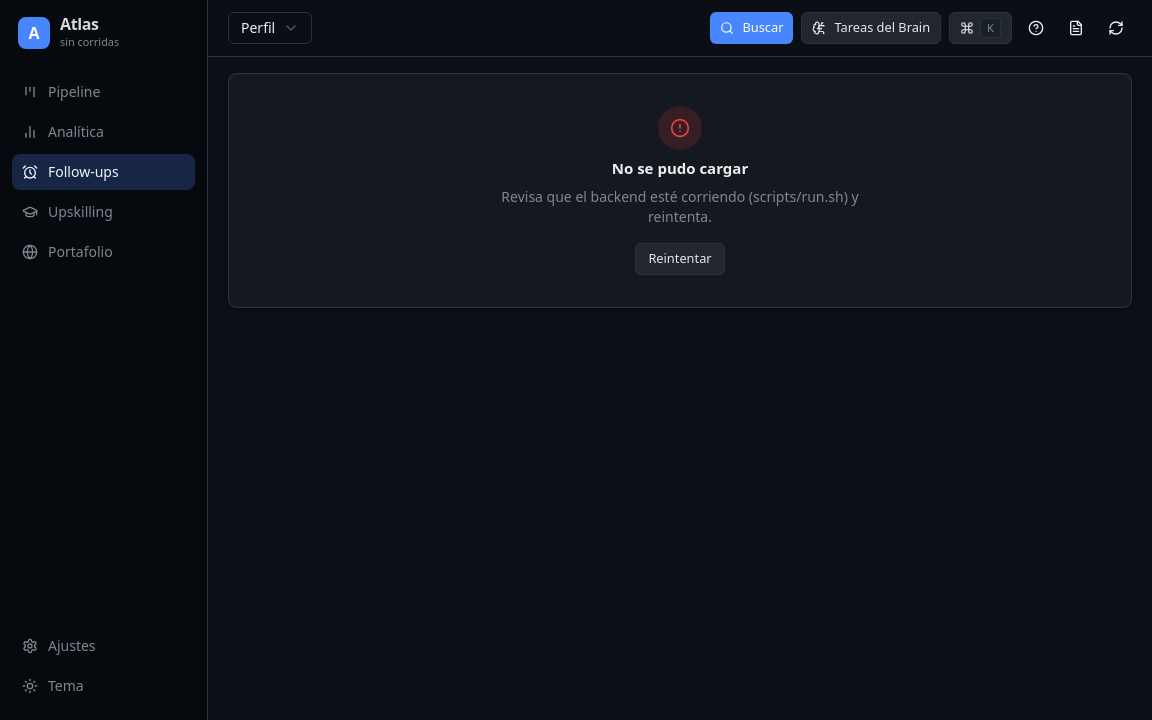
FollowupsPage › si /api/followups falla muestra ErrorState y Reintentar recupera al éxito
Expected: the text "No se pudo cargar" is shown, [612, 158, 748, 179]
Click the button "Reintentar" at (680, 259), box [635, 243, 725, 275]
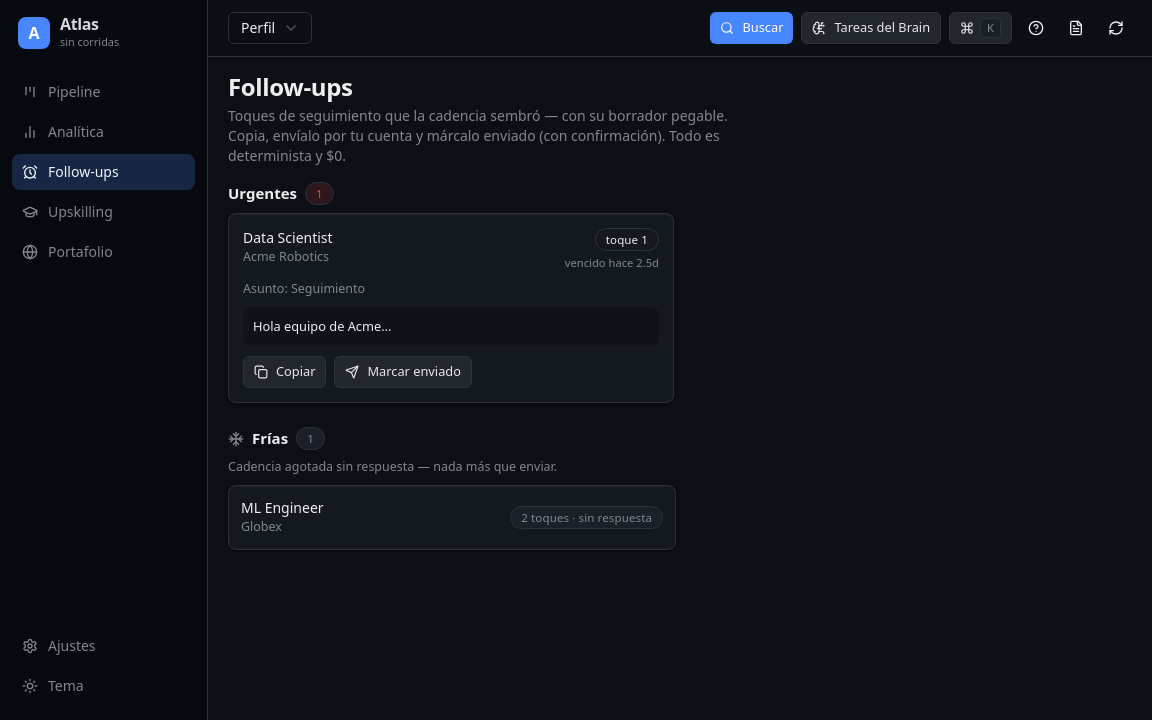
Now the text "Data Scientist" is shown, box [243, 228, 333, 248]
